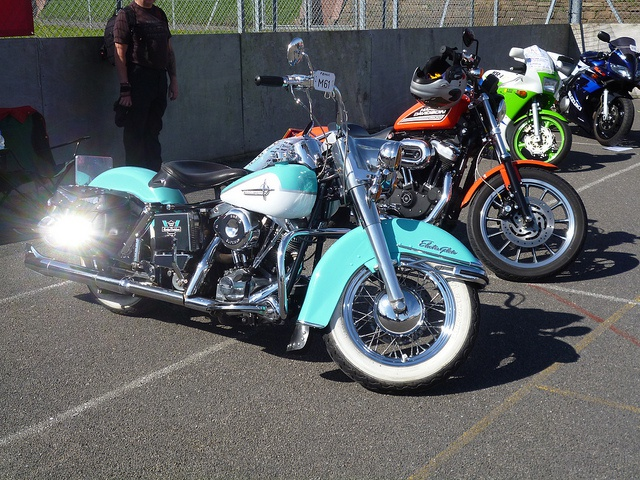non-vehicle: (20, 37, 489, 397), (356, 29, 590, 270), (508, 31, 640, 146), (480, 44, 571, 165)
